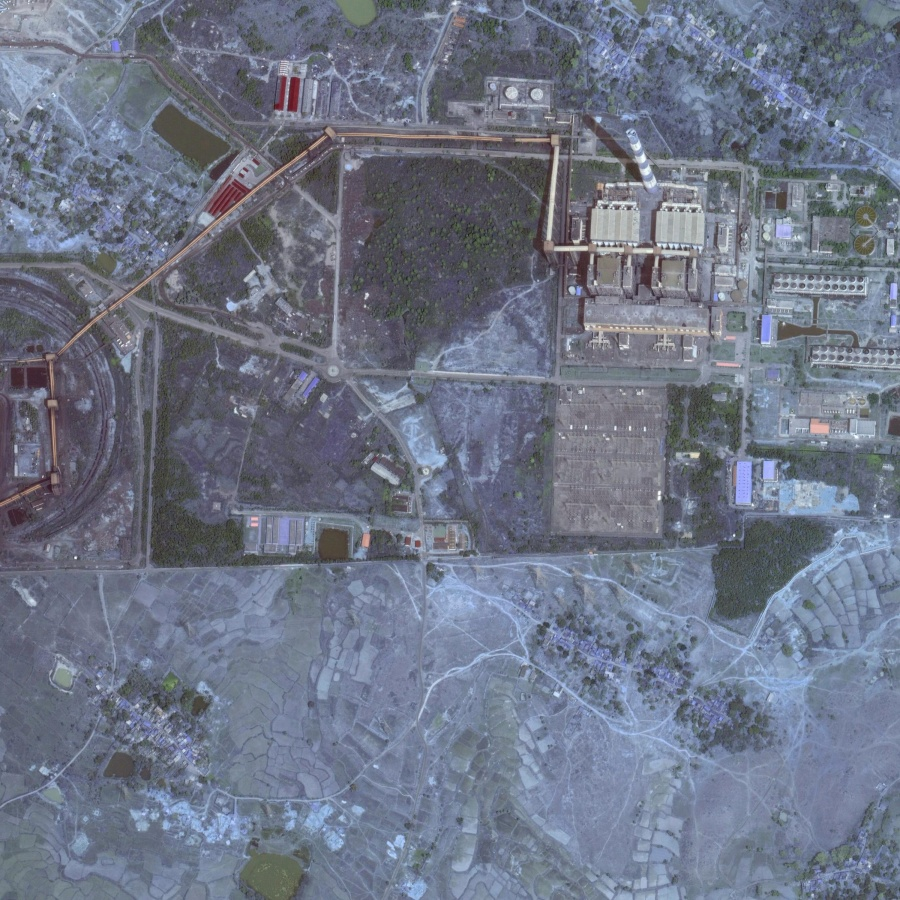PowerPlant: (557, 89, 711, 222)
